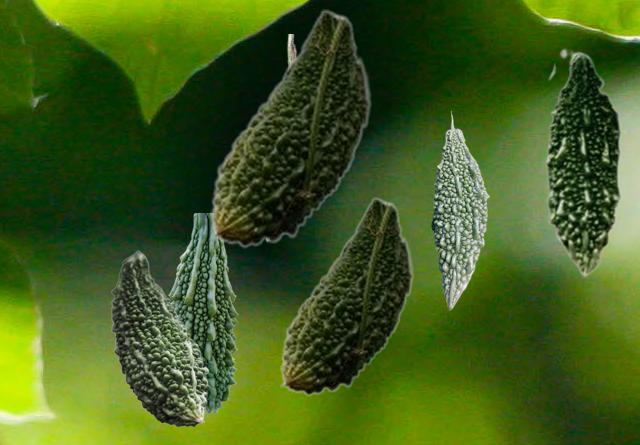ampalaya: (210, 9, 371, 247), (280, 197, 413, 395), (545, 48, 626, 277), (111, 250, 209, 426), (168, 213, 237, 411), (431, 111, 488, 309), (286, 34, 297, 64)
